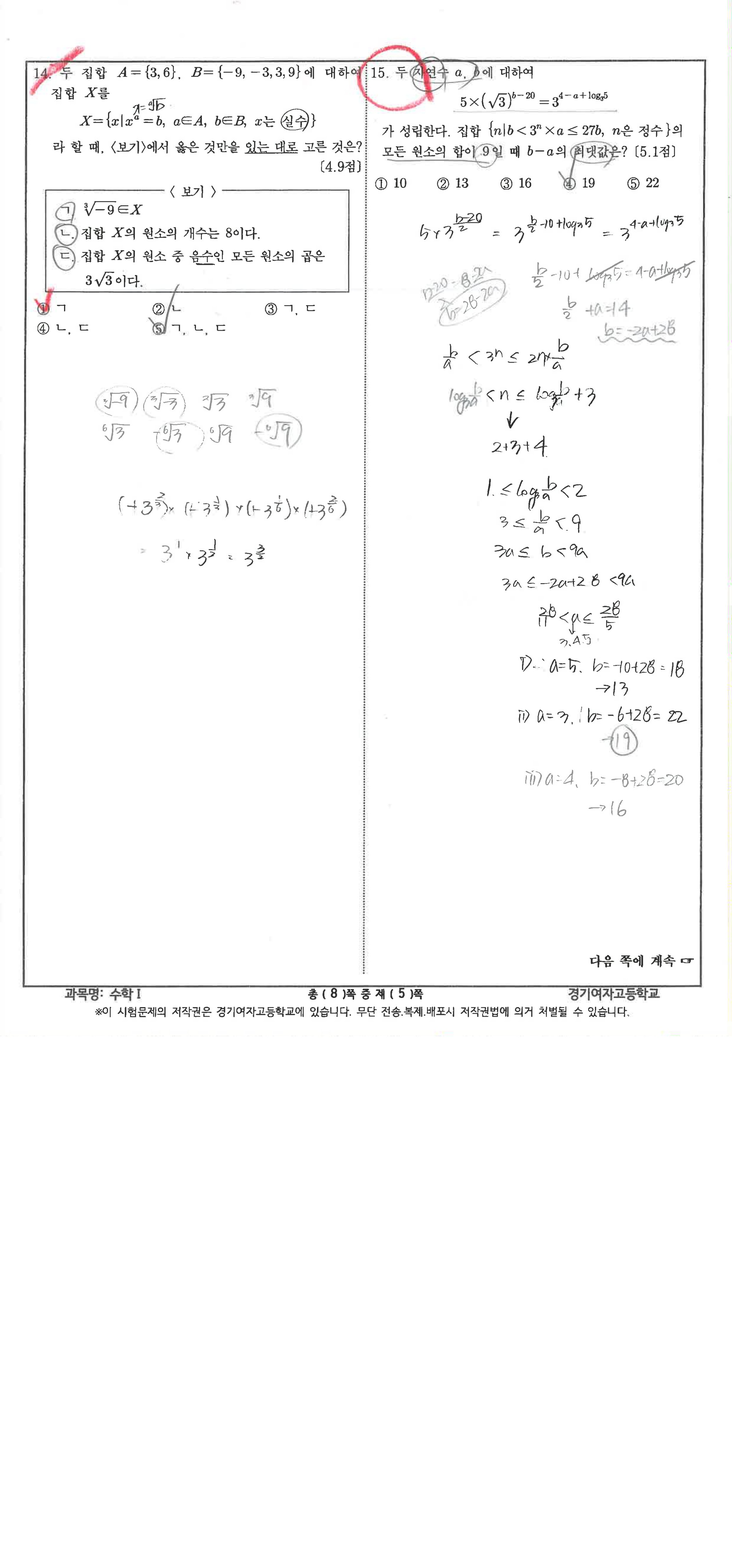problem: (31, 64, 359, 340), (369, 62, 701, 198)
